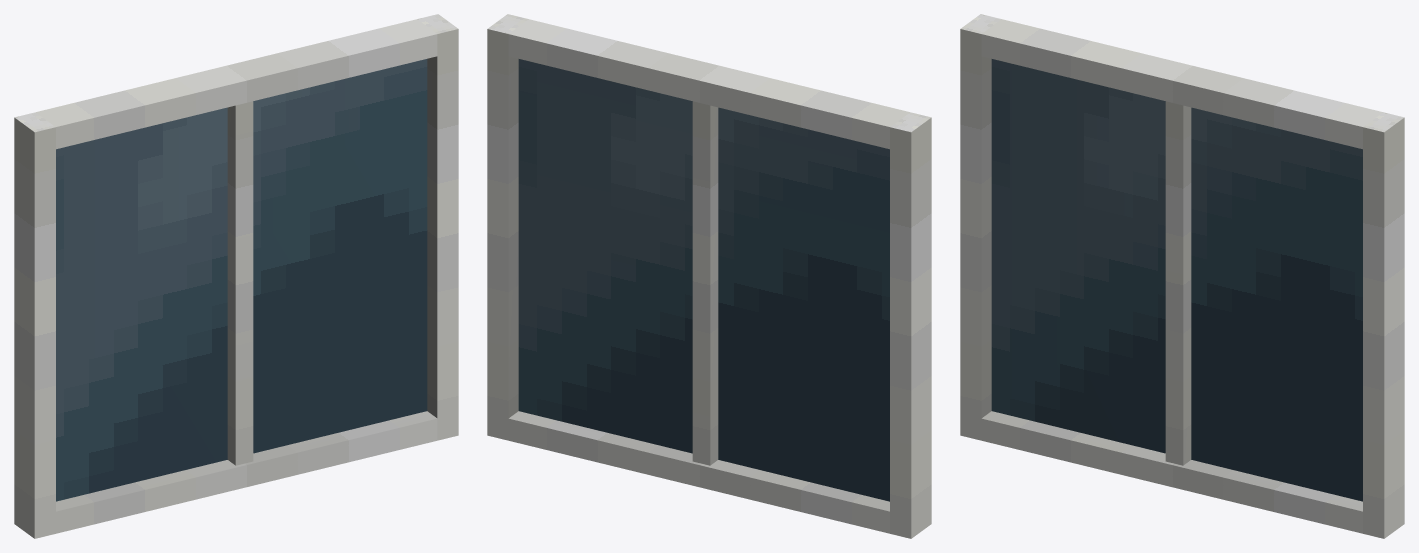
Rendered from window_white.glb.
The picture shows the model from 3 angles, left to right: view 1: azimuth 30°, elevation 25°; view 2: azimuth 150°, elevation 25°; view 3: azimuth 330°, elevation 25°; orthographic projection.
Visible parts, largest first — view 1: window_white; view 2: window_white; view 3: window_white.
Boxes of the visible parts, box(x1,y1,x2,y2) form: window_white: box(14, 14, 458, 538); window_white: box(487, 14, 931, 538); window_white: box(960, 14, 1404, 538).
Size of the model in its own units: 1.2 by 1.1 by 0.1.
Materials: 1 (1 with a texture image).
